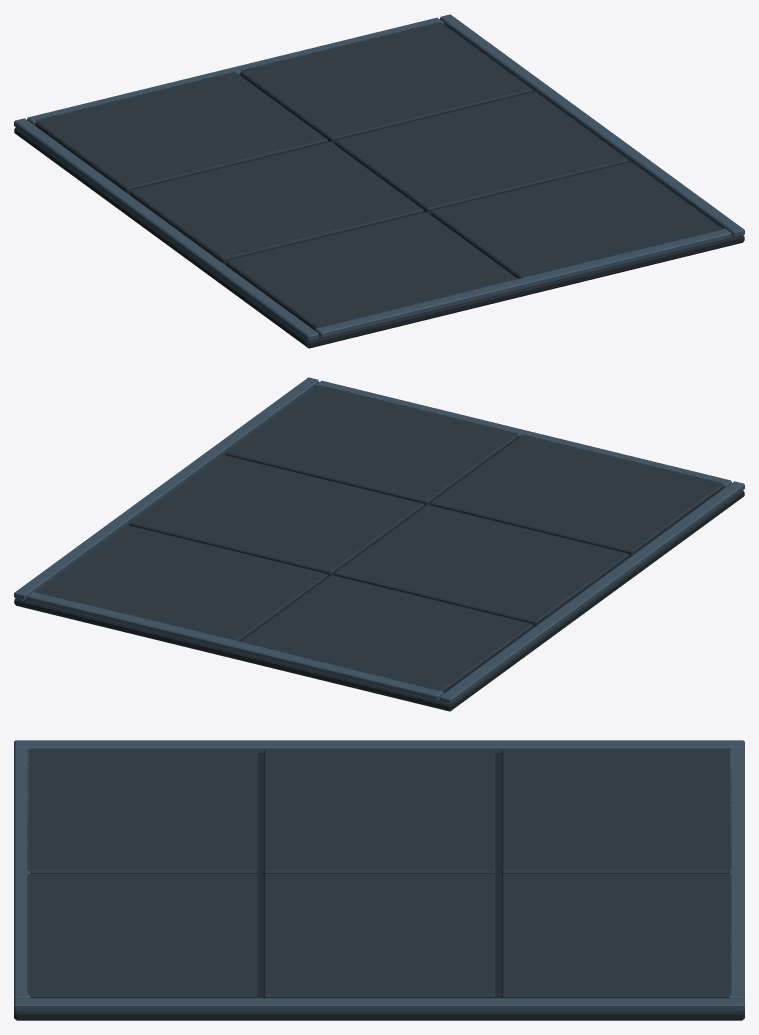
File: survey-floor.glb
3 views of the same model, one above another, from view 1: azimuth 30°, elevation 25°; view 2: azimuth 150°, elevation 25°; view 3: azimuth 270°, elevation 25° (orthographic). The views are drawn at different scales.
Parts seen in each view (by area): view 1: survey-floor; view 2: survey-floor; view 3: survey-floor.
Boxes of the visible parts, <box> form: survey-floor: <box>14,14,744,348</box>; survey-floor: <box>14,377,744,711</box>; survey-floor: <box>14,740,744,1020</box>.
Bounding box in the file's own units: 6 × 0.18 × 7.
1 material, 1 textured.
